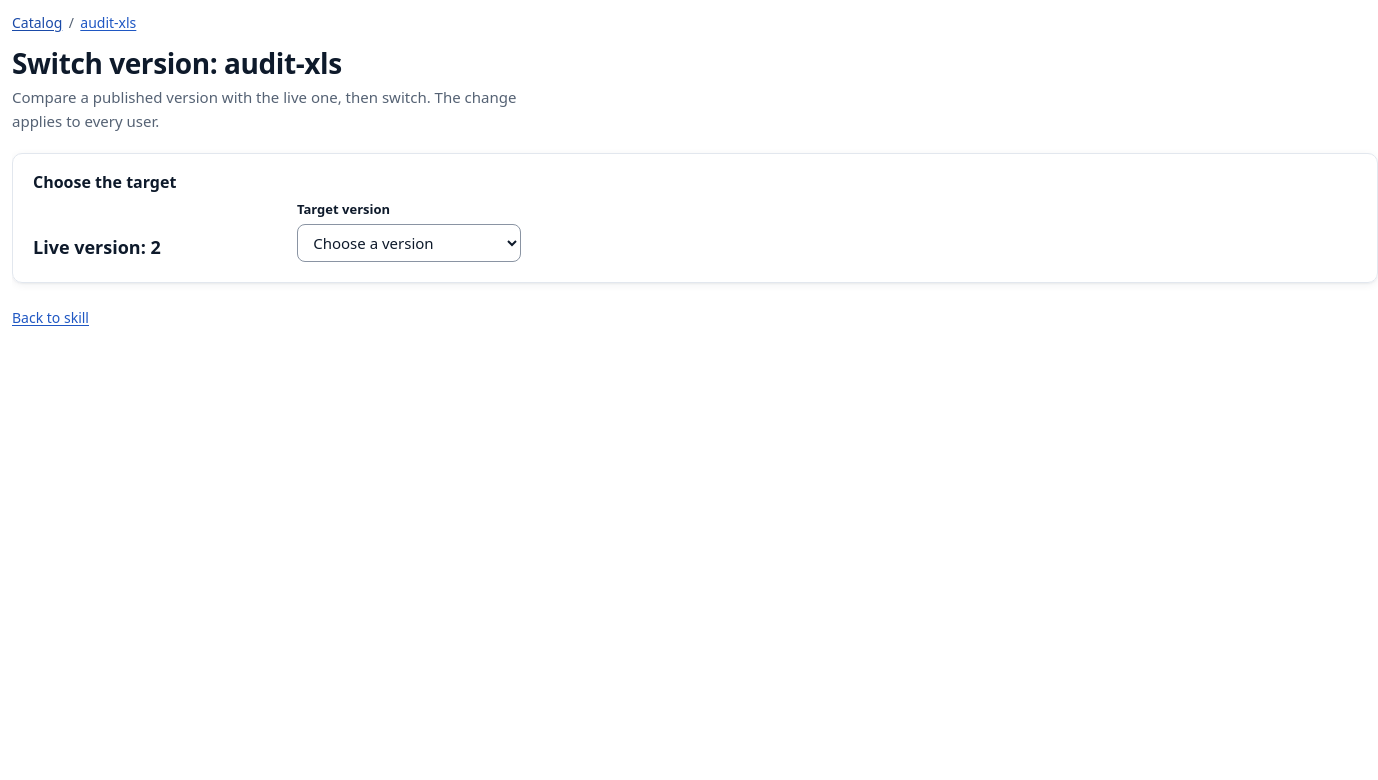
Test: Switch › states the live version as the from side
The image size is (1378, 780).
Step 1. Select "v1" in the dropdown labelled "Target version" → (409, 242), box x1=297 y1=224 x2=521 y2=262
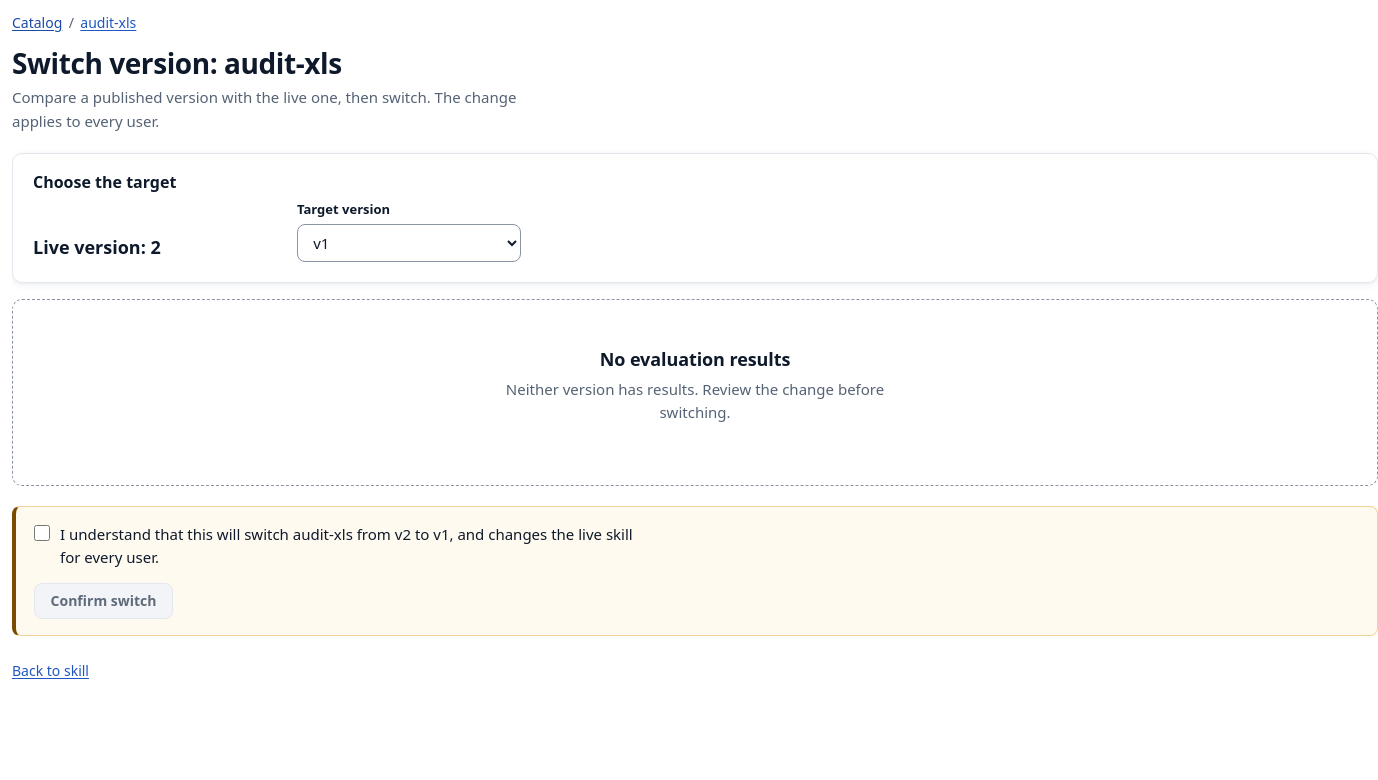
Expected: the checkbox labelled "switch audit-xls from v2 to v1" is shown, x1=34 y1=525 x2=50 y2=541
